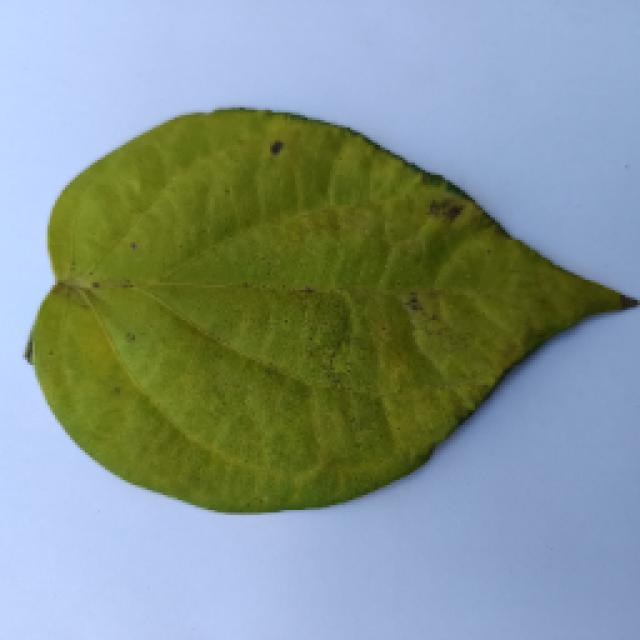slow-decline: (10, 102, 628, 532)
